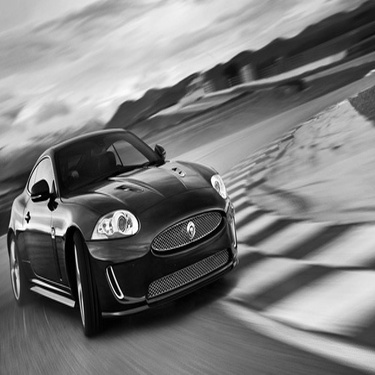car: (8, 121, 242, 337)
